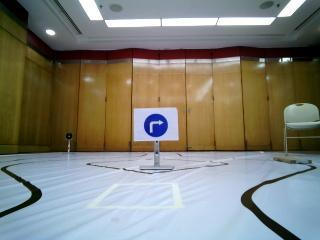right: (136, 110, 177, 139)
